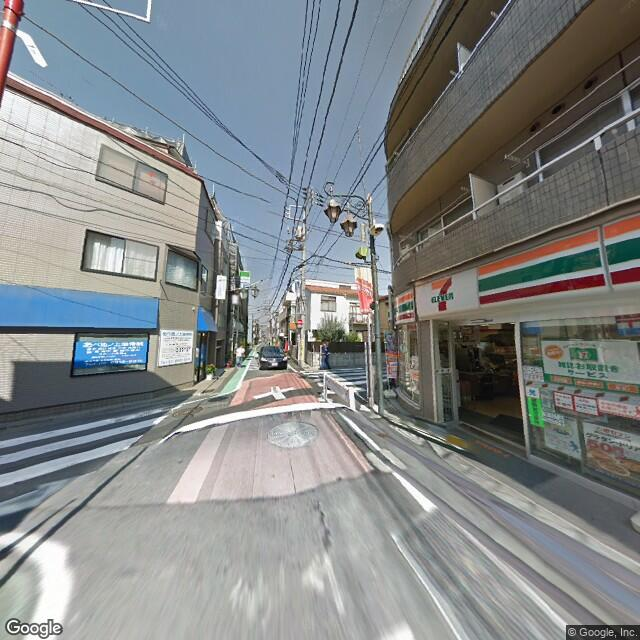7-eleven: (389, 203, 640, 333)
